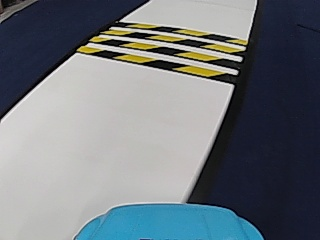bump: (105, 22, 235, 83)
